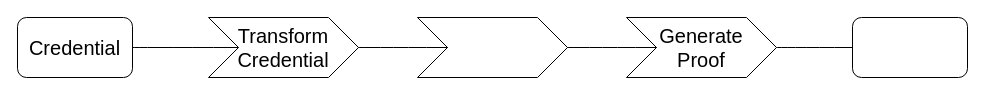
The diagram is 985 pixels wide and 105 high, and some of its shapes have lost their labels. Each missing label, with the box of its shape:
Credential with Proof: (852, 16, 968, 78)
Hash Credential: (416, 16, 568, 78)
